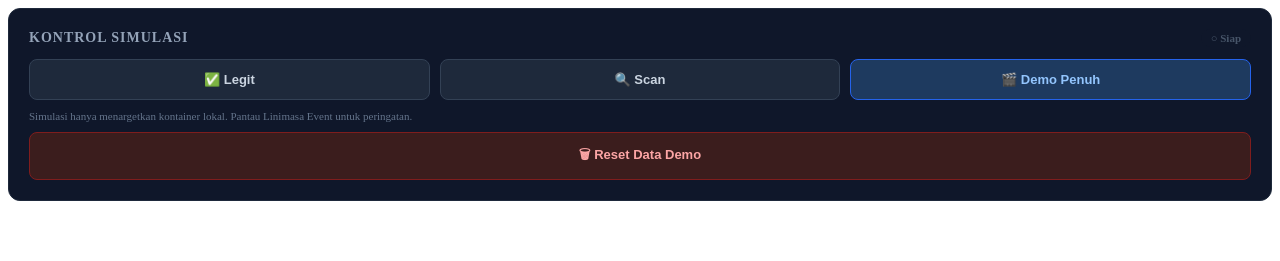
Test: SimPanel › shows error banner when api.runSim rejects
Note: Click Legit (no confirmation dialog for non-full scenarios)
Click the button "✅ Legit" at (229, 80), box [29,59,430,100]
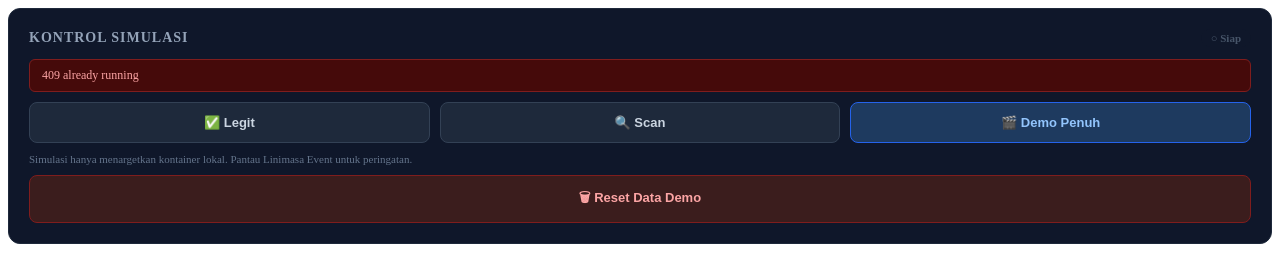
Expected: the text "409 already running" is shown, [29,59,1251,92]
